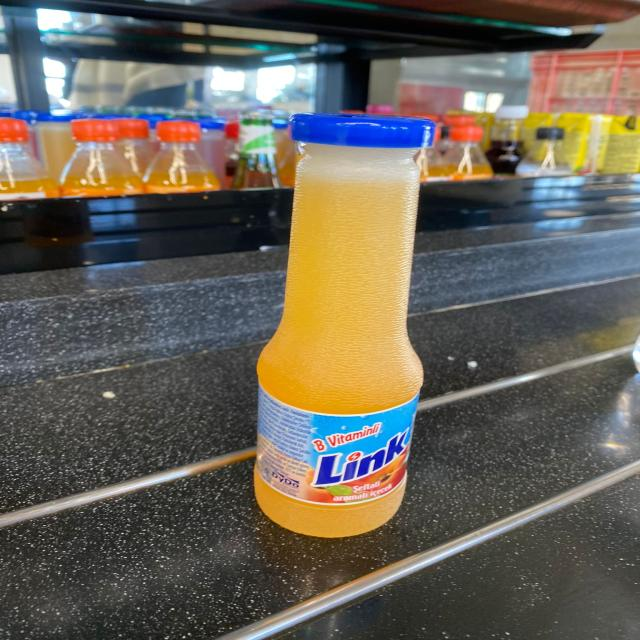yan_yemek: (251, 111, 436, 538)
